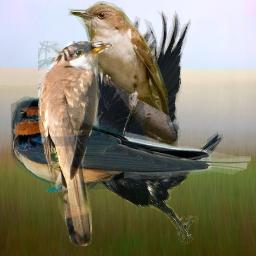Crow: (59, 9, 223, 245)
Cuckoo: (68, 1, 180, 162), (38, 41, 112, 246)
Swallow: (6, 94, 251, 192)
